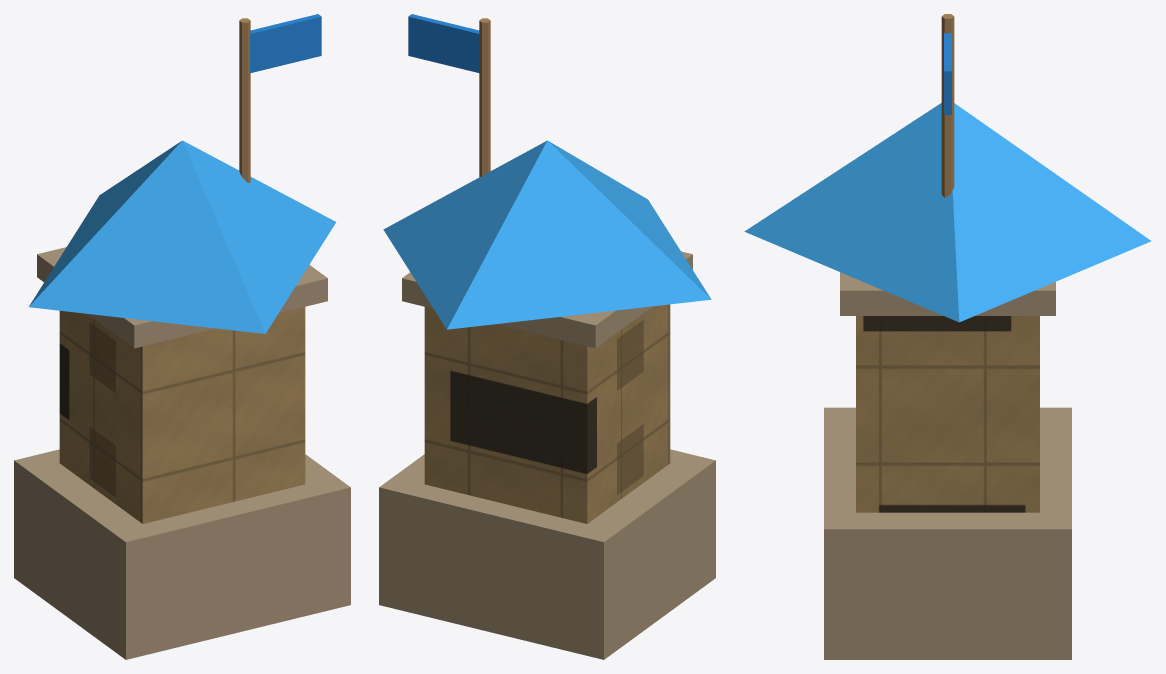
File: city-module-keep-lod0.glb
3 views of the same model, side by side, from view 1: azimuth 30°, elevation 25°; view 2: azimuth 150°, elevation 25°; view 3: azimuth 270°, elevation 25° (orthographic). The views are drawn at different scales.
Visible parts, largest first — view 1: module_keep_base, module_keep_upper, module_keep_blue_roof, module_keep_roof_cap, module_keep_flag, module_keep_flag_pole; view 2: module_keep_base, module_keep_upper, module_keep_blue_roof, module_keep_roof_cap, module_keep_flag, module_keep_flag_pole; view 3: module_keep_blue_roof, module_keep_base, module_keep_upper, module_keep_roof_cap, module_keep_flag_pole, module_keep_flag.
Part boxes in pixels (box(x1,y1,x2,y2)): module_keep_base: box(14, 449, 350, 659); module_keep_upper: box(59, 307, 305, 523); module_keep_blue_roof: box(29, 140, 336, 333); module_keep_roof_cap: box(37, 247, 327, 348); module_keep_flag: box(250, 14, 321, 73); module_keep_flag_pole: box(239, 18, 250, 182); module_keep_base: box(379, 449, 715, 659); module_keep_upper: box(424, 304, 670, 523); module_keep_blue_roof: box(383, 140, 711, 329); module_keep_roof_cap: box(402, 251, 692, 348); module_keep_flag: box(408, 14, 479, 73); module_keep_flag_pole: box(479, 18, 490, 177); module_keep_blue_roof: box(744, 103, 1151, 322); module_keep_base: box(824, 407, 1071, 659); module_keep_upper: box(856, 316, 1039, 512); module_keep_roof_cap: box(840, 272, 1055, 315); module_keep_flag_pole: box(941, 14, 954, 197); module_keep_flag: box(944, 33, 951, 114).
Size of the model in its own units: 0.5091 by 0.85 by 0.5091.
Materials: 5 (1 with a texture image).
